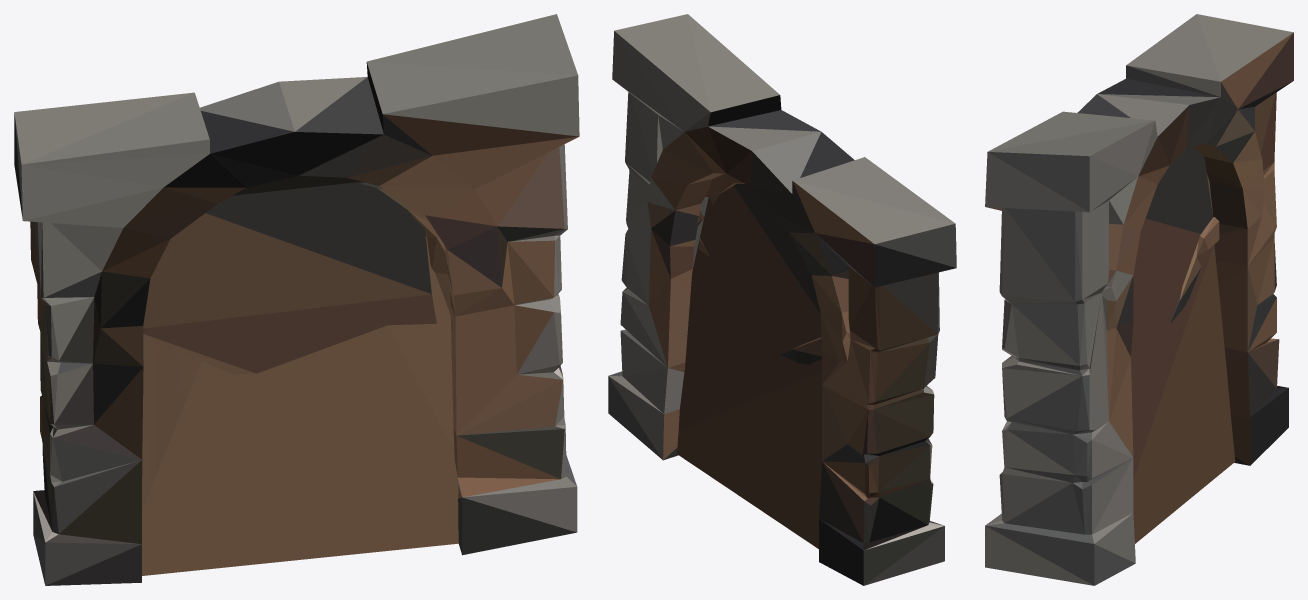
The model's file is Gate_Main.glb.
3 views of the same model, side by side, from view 1: azimuth 30°, elevation 25°; view 2: azimuth 150°, elevation 25°; view 3: azimuth 270°, elevation 25° (orthographic). The views are drawn at different scales.
Parts seen in each view (by area): view 1: world; view 2: world; view 3: world.
Part boxes in pixels (box(x1,y1,x2,y2)): world: box(14, 14, 579, 585); world: box(608, 14, 956, 585); world: box(985, 14, 1293, 585).
Bounding box in the file's own units: 0.4082 × 0.4102 × 0.248.
